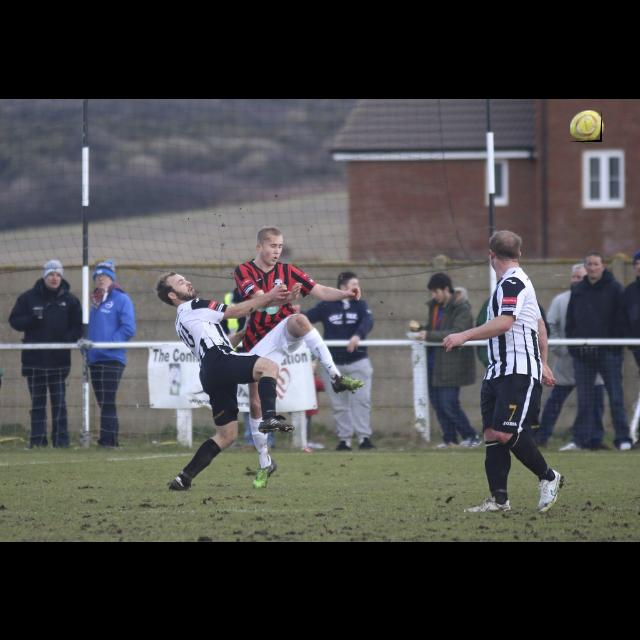Football: (570, 110, 602, 142)
